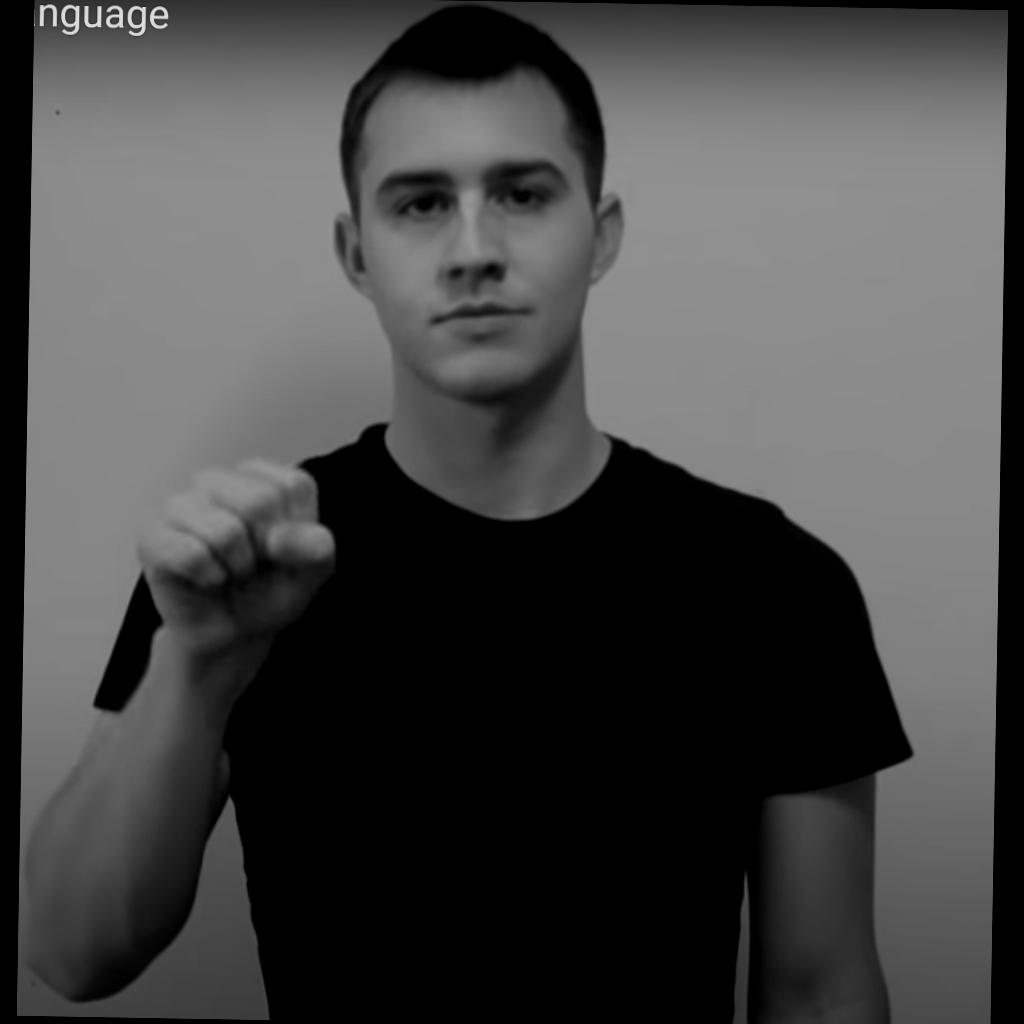yes: (136, 454, 338, 662)
